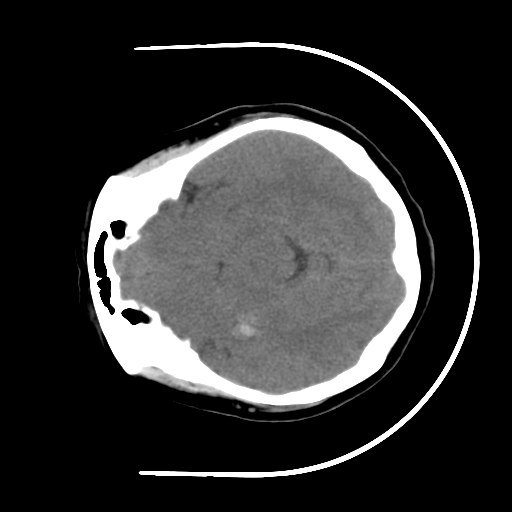a: (213, 298, 280, 356)
